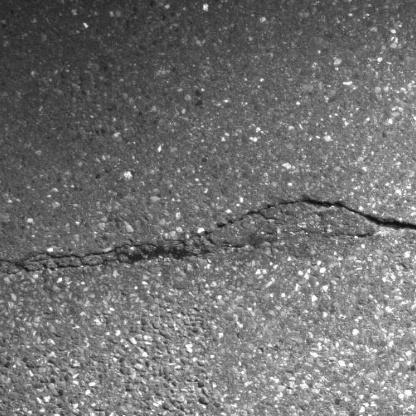Cracks: (177, 193, 416, 249)
